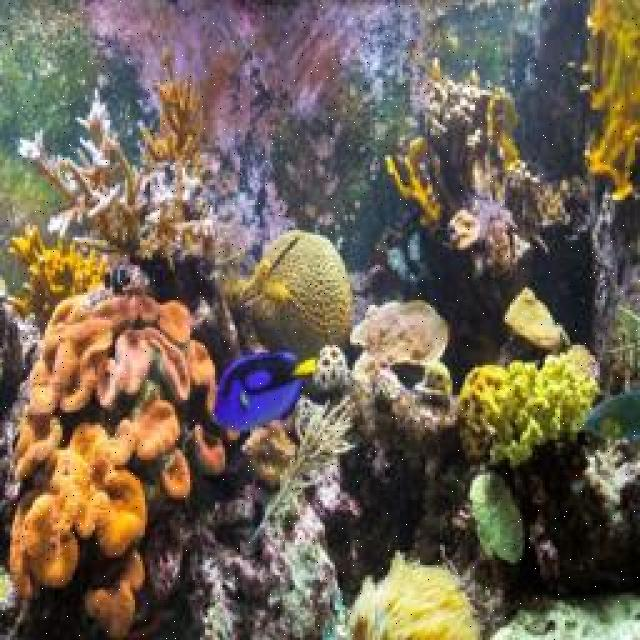aquatic plants: (338, 552, 489, 638)
fish: (212, 350, 318, 433)
reefs: (8, 285, 240, 638), (17, 102, 150, 244), (456, 344, 602, 465), (247, 231, 354, 358), (5, 222, 110, 331), (135, 74, 205, 177)
